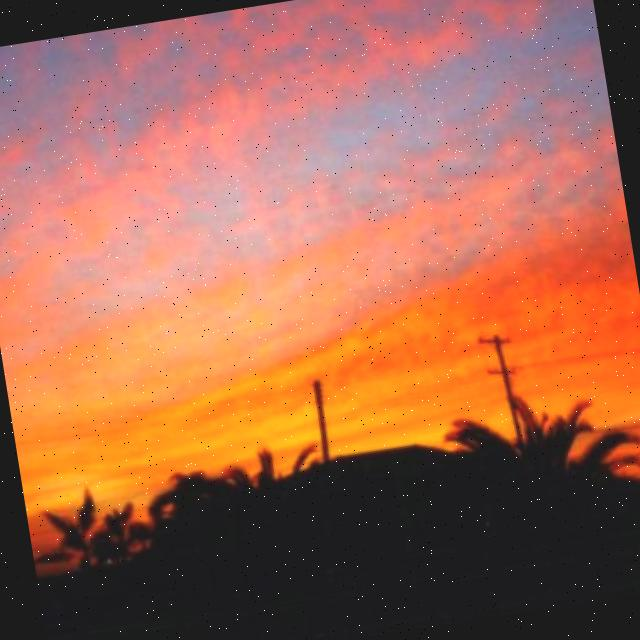As: (1, 40, 640, 451)
